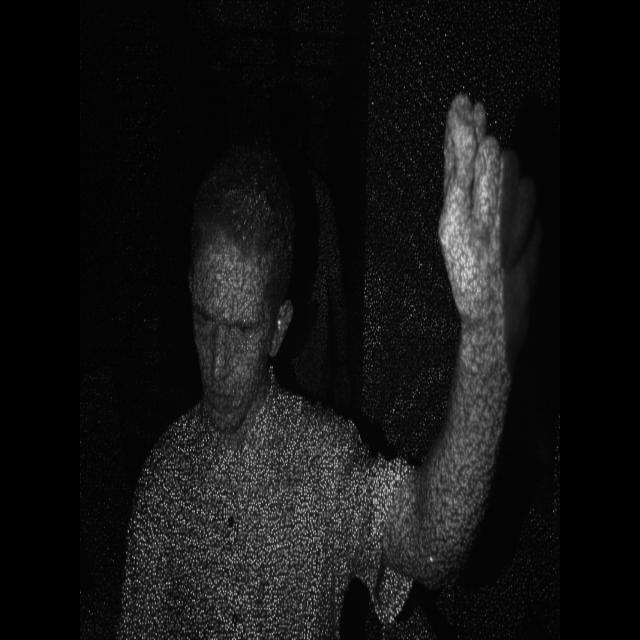T: (423, 83, 540, 338)
